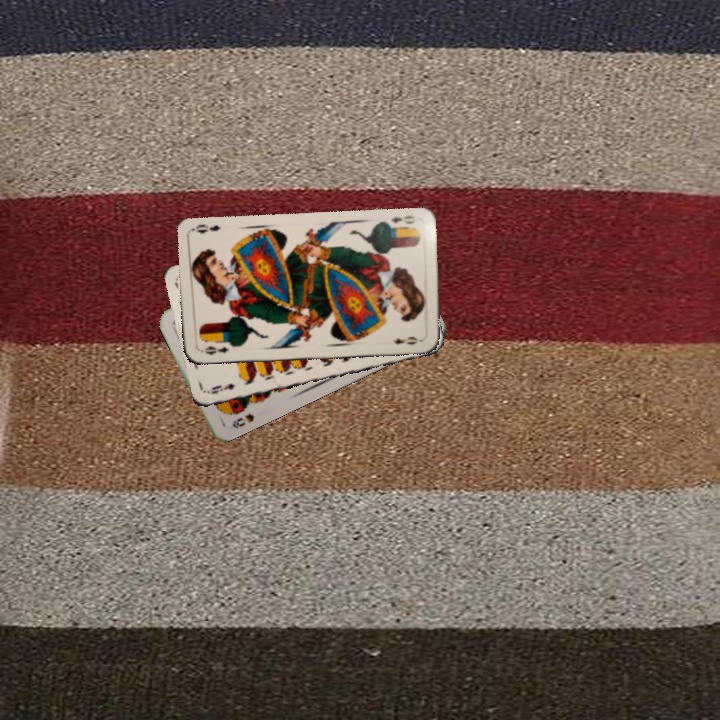E9: (205, 379, 237, 397)
EO: (387, 211, 418, 226), (201, 342, 231, 357)
S8: (228, 410, 257, 431)
